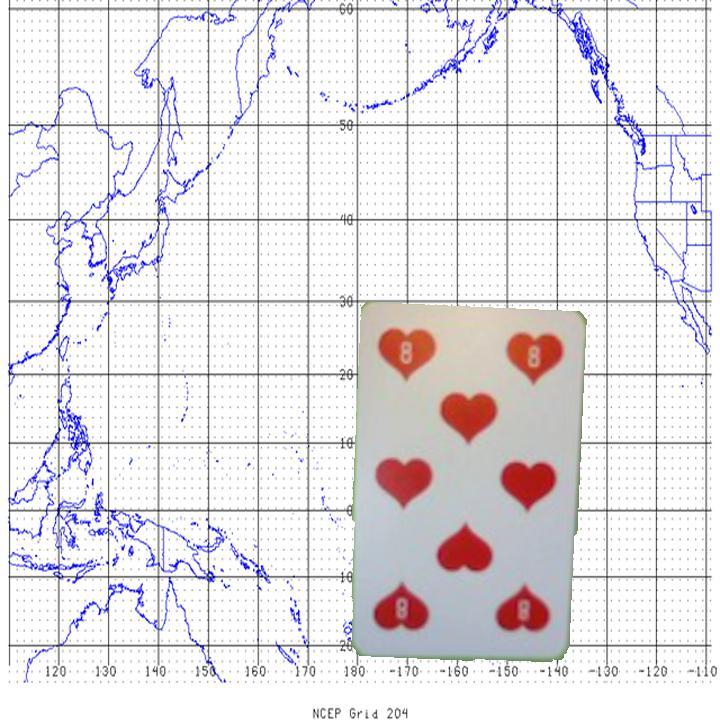h_8.png: (372, 318, 476, 408), (456, 558, 559, 648)
